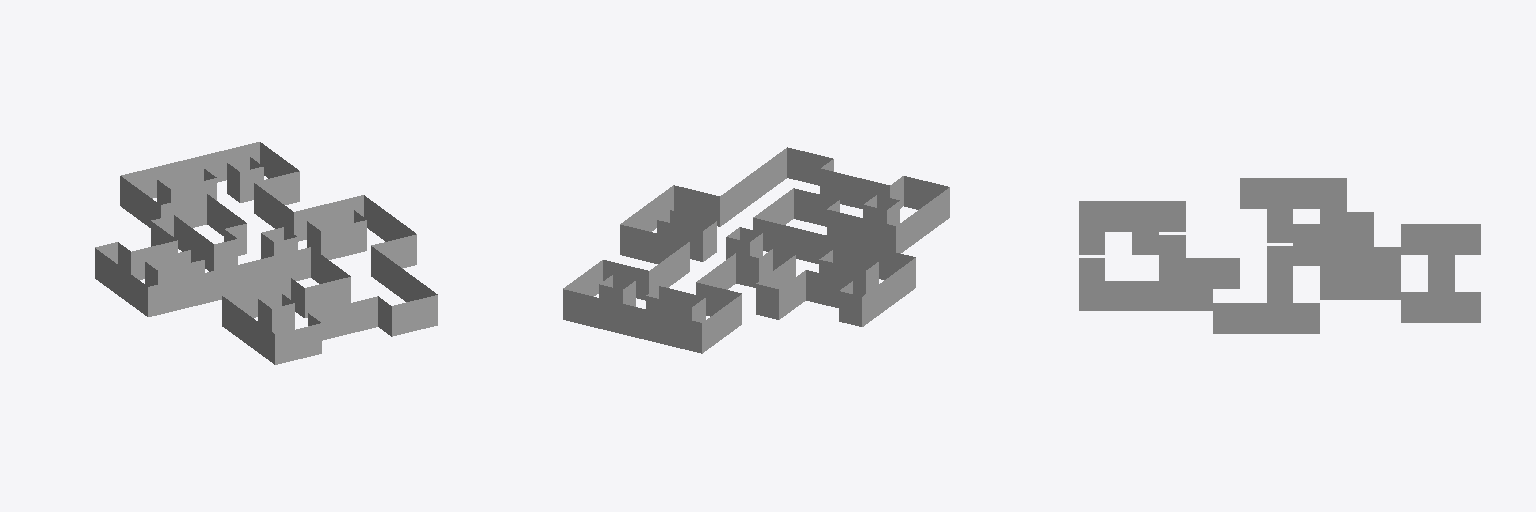
File: city.obj
3 views of the same model, side by side, from view 1: azimuth 30°, elevation 25°; view 2: azimuth 150°, elevation 25°; view 3: azimuth 270°, elevation 25° (orthographic).
Parts seen in each view (by area): view 1: Extrude, Extrude.1; view 2: Extrude, Extrude.1; view 3: Extrude, Extrude.1.
Part boxes in pixels (left/top/right/bottom): Extrude: left=95, top=142, right=437, bottom=364; Extrude.1: left=145, top=157, right=366, bottom=333; Extrude: left=563, top=147, right=949, bottom=353; Extrude.1: left=599, top=195, right=899, bottom=322; Extrude: left=1079, top=178, right=1480, bottom=333; Extrude.1: left=1132, top=189, right=1454, bottom=302.
Bounding box in the file's own units: 1100 × 128 × 1500.